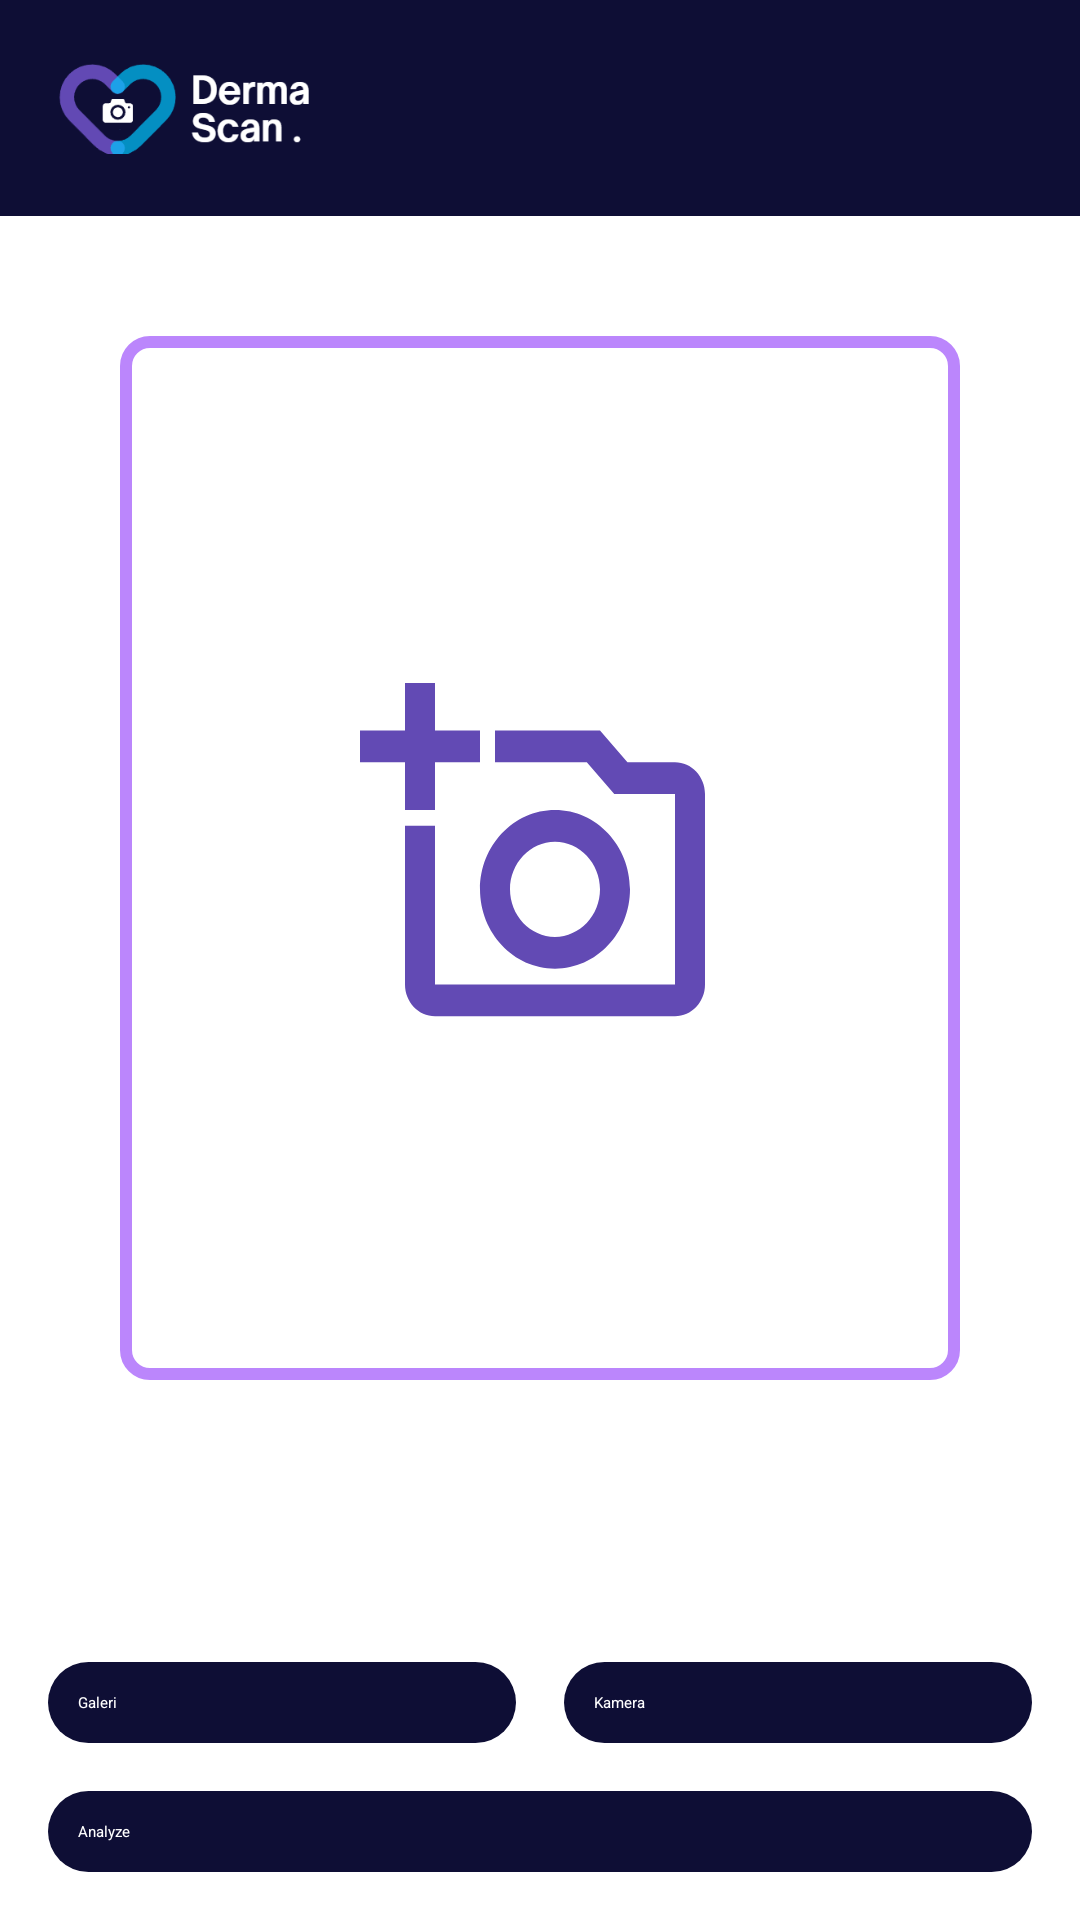

Where to tap for icons on this 1080px x 1920px app screen, as (x,y):
add photo scan: (532,850)
